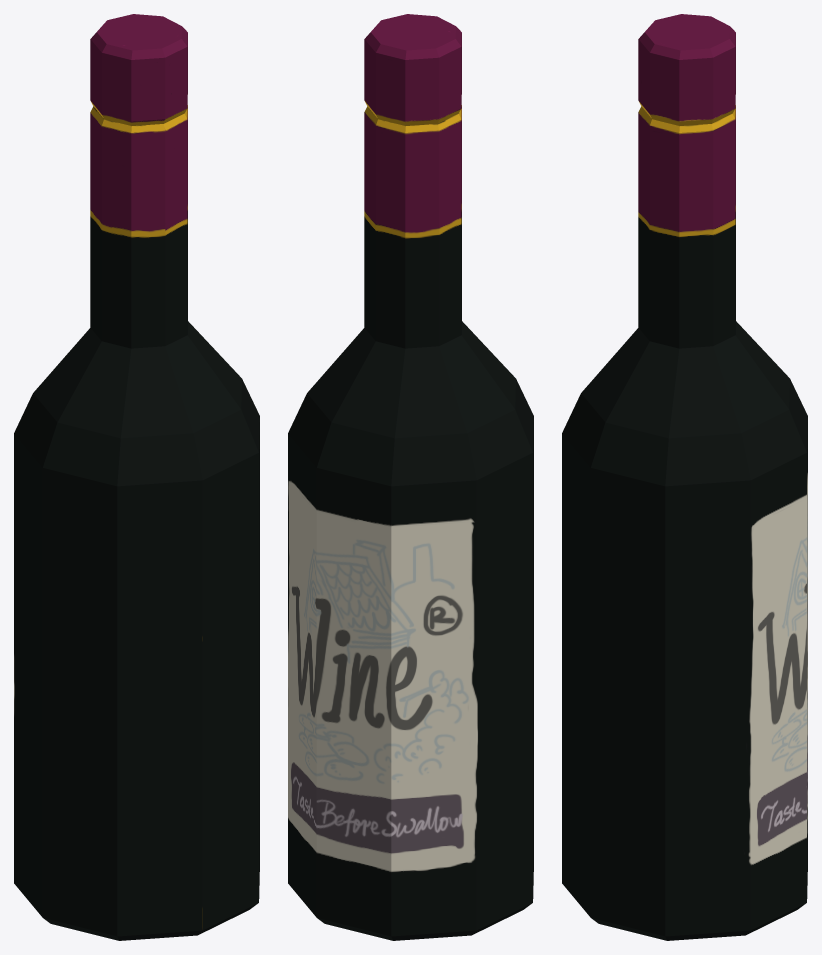
Rendered from WineBottle.fbx.
3 renders of one model, left to right at view 1: azimuth 30°, elevation 25°; view 2: azimuth 150°, elevation 25°; view 3: azimuth 270°, elevation 25°, orthographic.
Visible parts, largest first — view 1: Wine; view 2: Wine; view 3: Wine.
Part boxes in pixels (<box>): Wine: <box>14,14,259,940</box>; Wine: <box>288,14,533,940</box>; Wine: <box>562,14,807,940</box>.
Size of the model in its own units: 39.39 by 38.86 by 150.
Materials: 1 (1 with a texture image).
